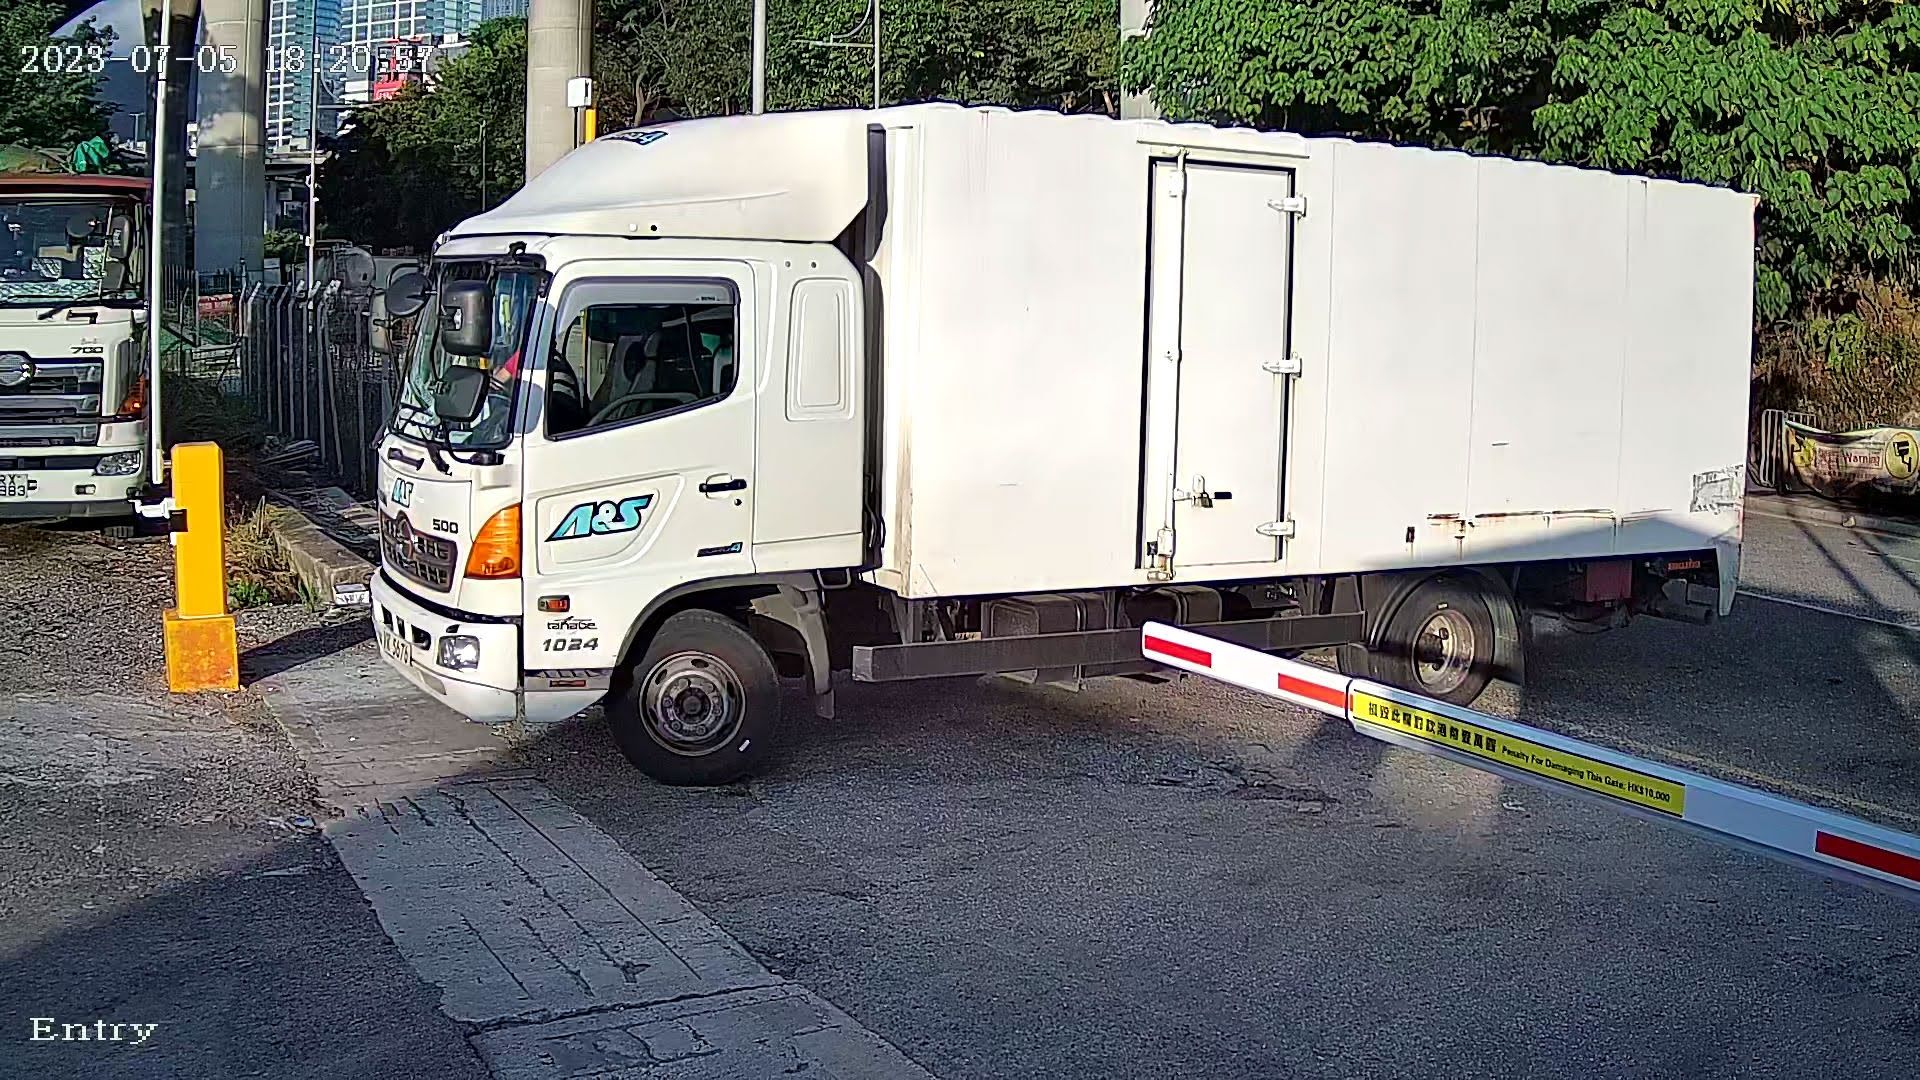truck_small: (336, 42, 1834, 807)
